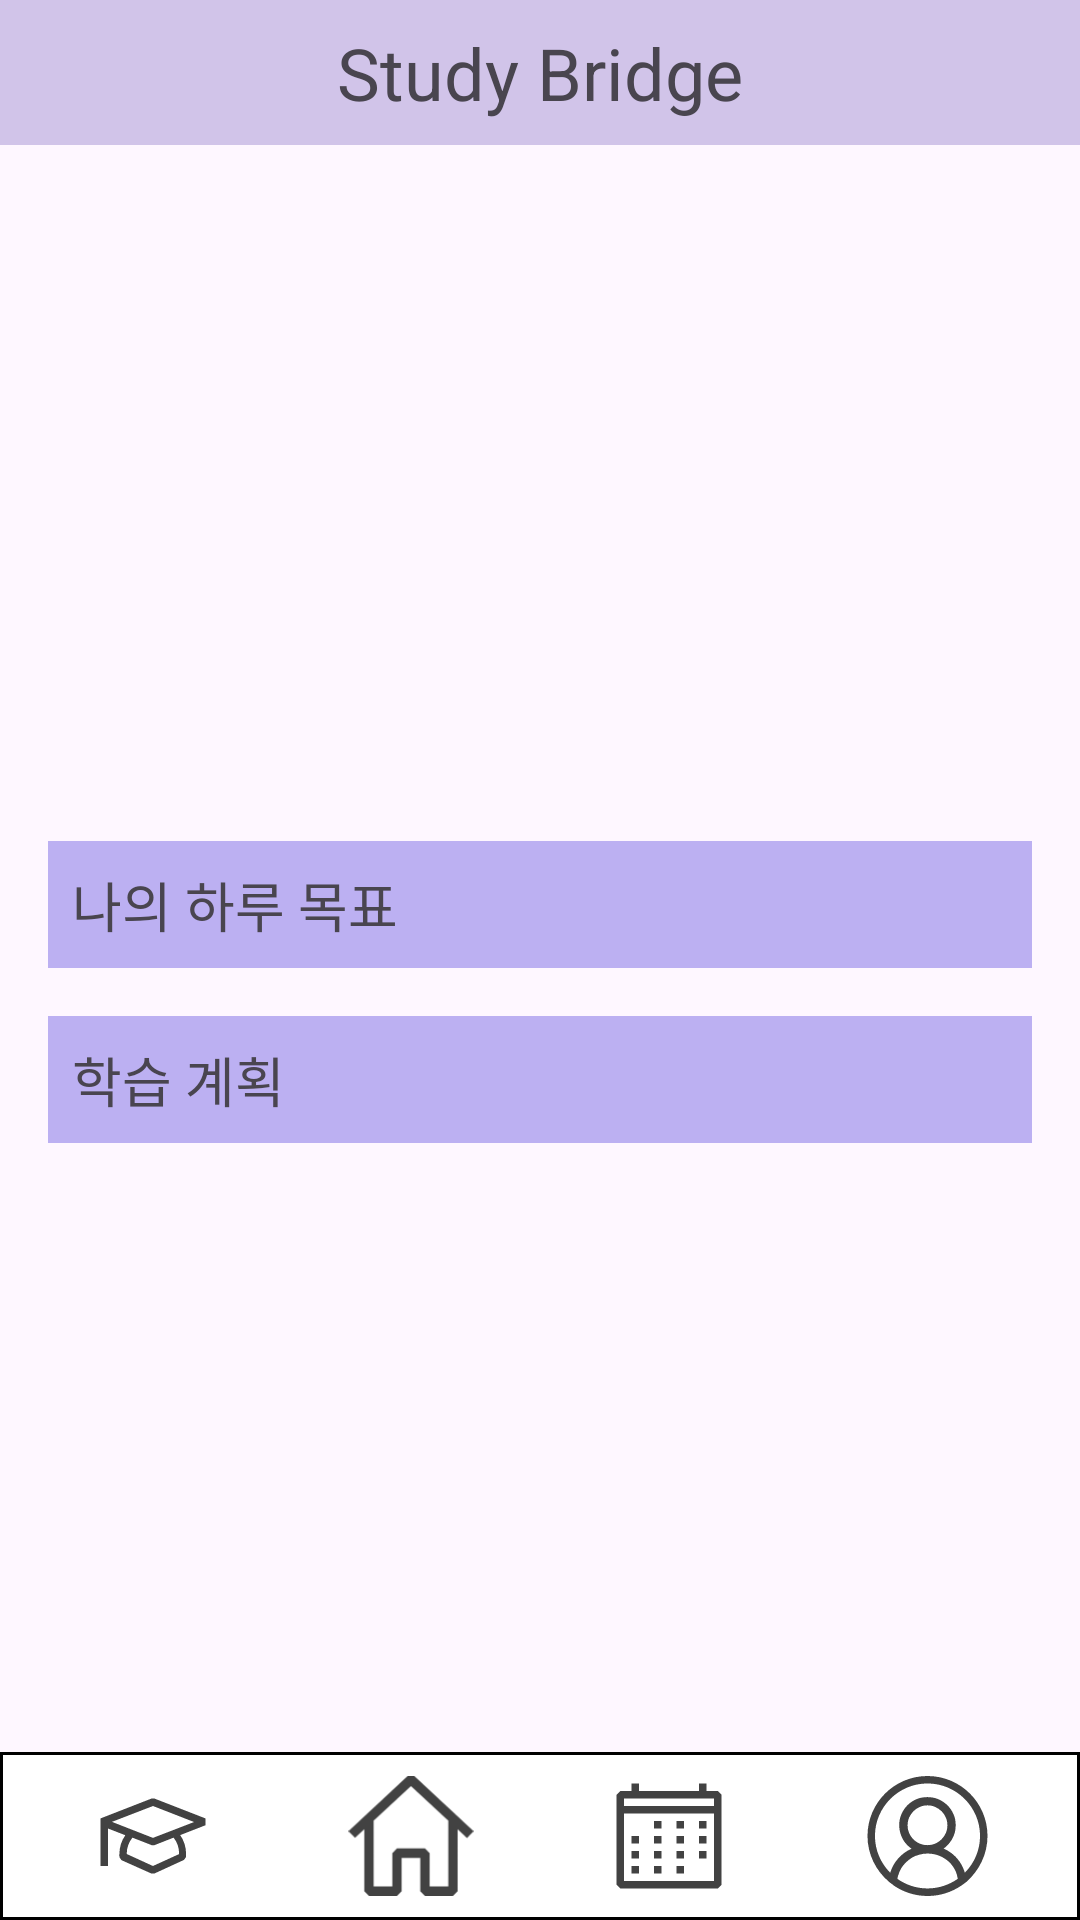

Where to tap for icons on this 1080×1920 app screen, as [x,y]:
home: [411,1836]
plan: [669,1836]
profile: [927,1836]
